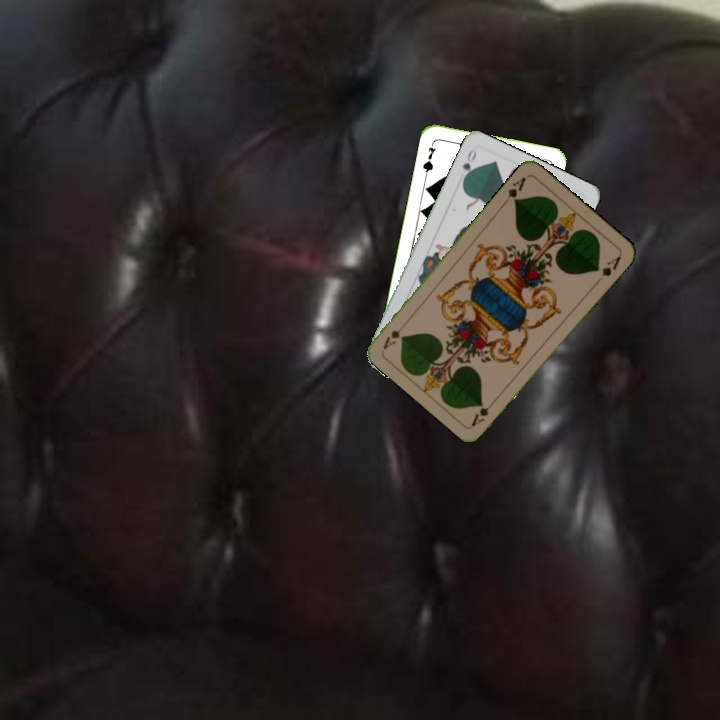G7: (418, 137, 438, 178)
GA: (467, 395, 499, 429), (499, 173, 528, 207)
GO: (458, 145, 479, 185)
